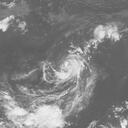cyclone: (54, 48, 90, 90)
